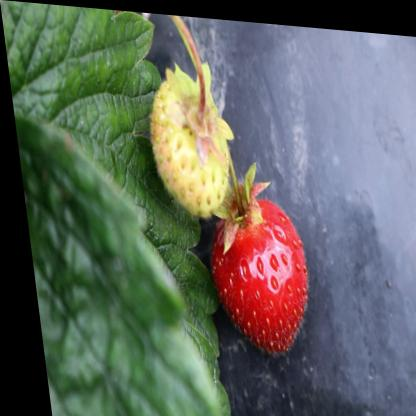ripe: (195, 165, 332, 353)
unripe: (143, 66, 237, 206)
